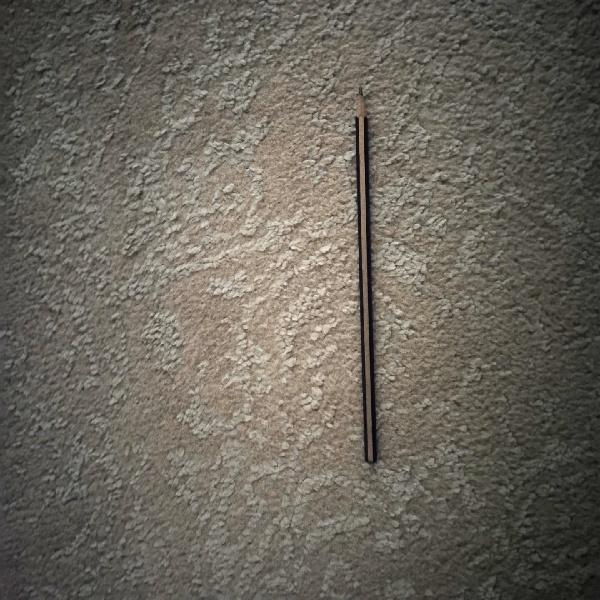pencil: (356, 87, 376, 462)
